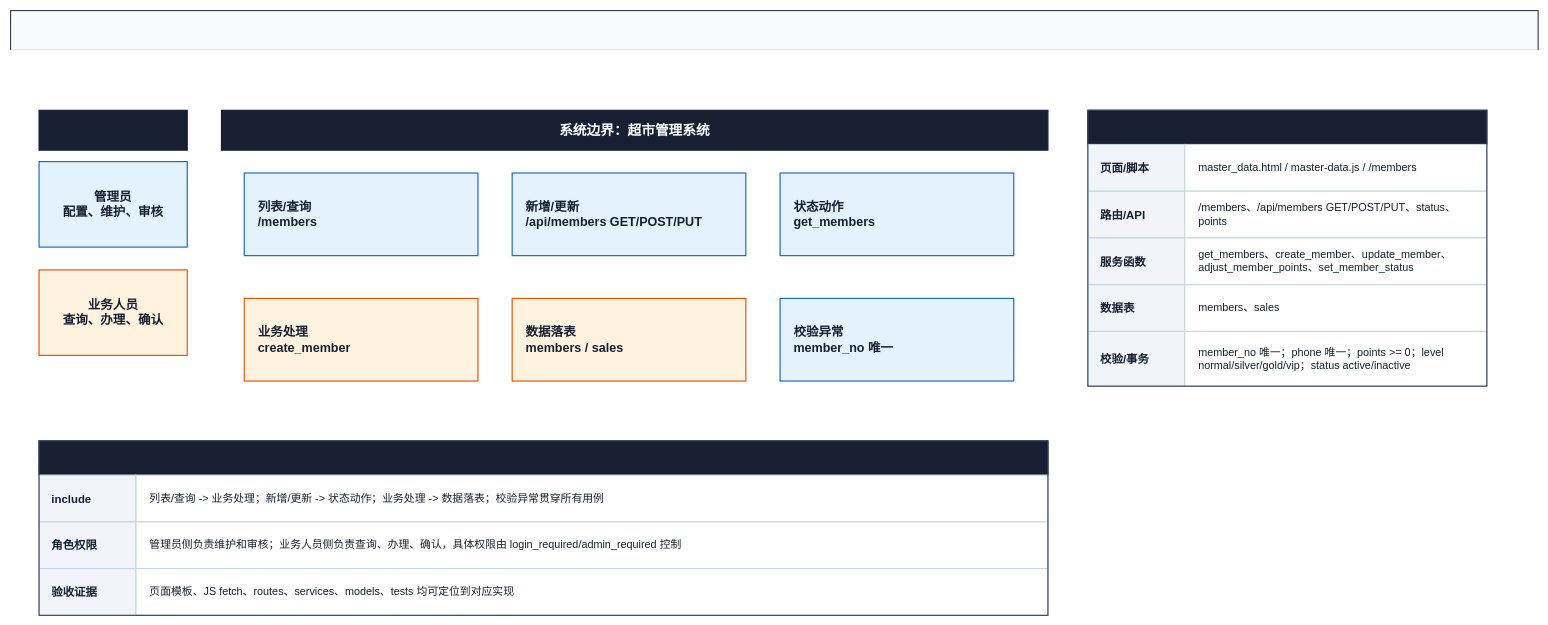
Some shapes in this 1548 by 625 pixel diagram are drawn without their labels. The shapes that lost their labels are listed below. From the top down, each one's centre as x and y in pixels, then its label:
At pixel 774 30: "会员管理用例图".
At pixel 774 62: "模块级用例矩阵｜角色｜用例｜实现入口｜校验点".
At pixel 113 129: "角色".
At pixel 1287 127: "实现明细".
At pixel 543 457: "用例依赖".
